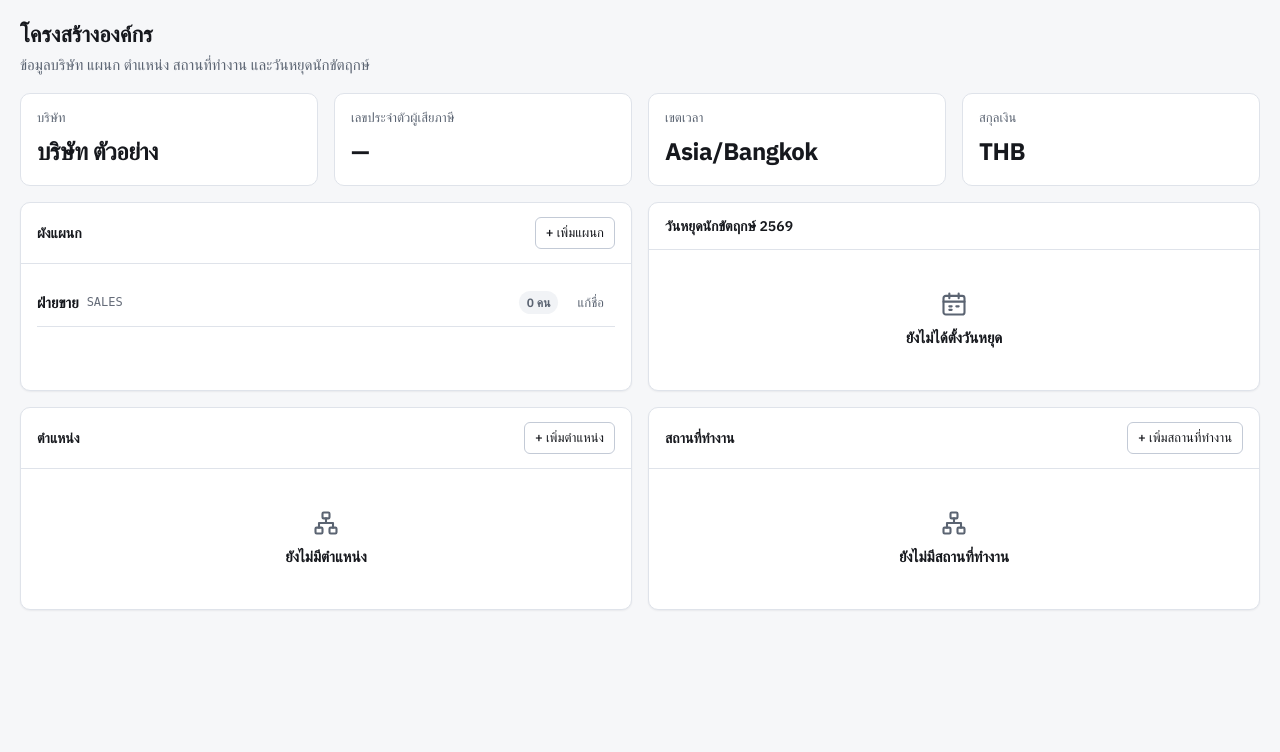
Test: Organisation: adding the records an employee import names (CW-072) › refuses a name already taken, in Thai, before anything is sent
Click the button "+ เพิ่มแผนก" at (575, 233), box [535, 217, 615, 249]
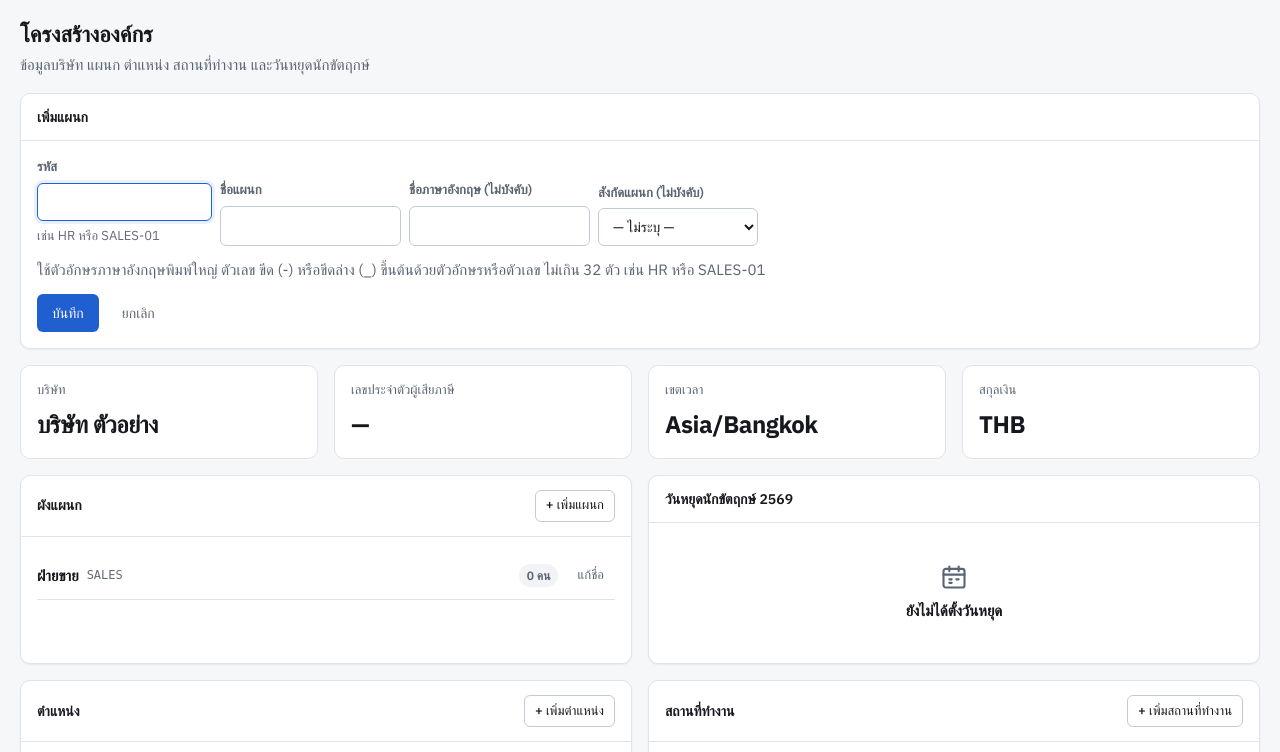
Type "SALES2" into the field labelled "รหัส" at (124, 202), box [37, 183, 212, 221]
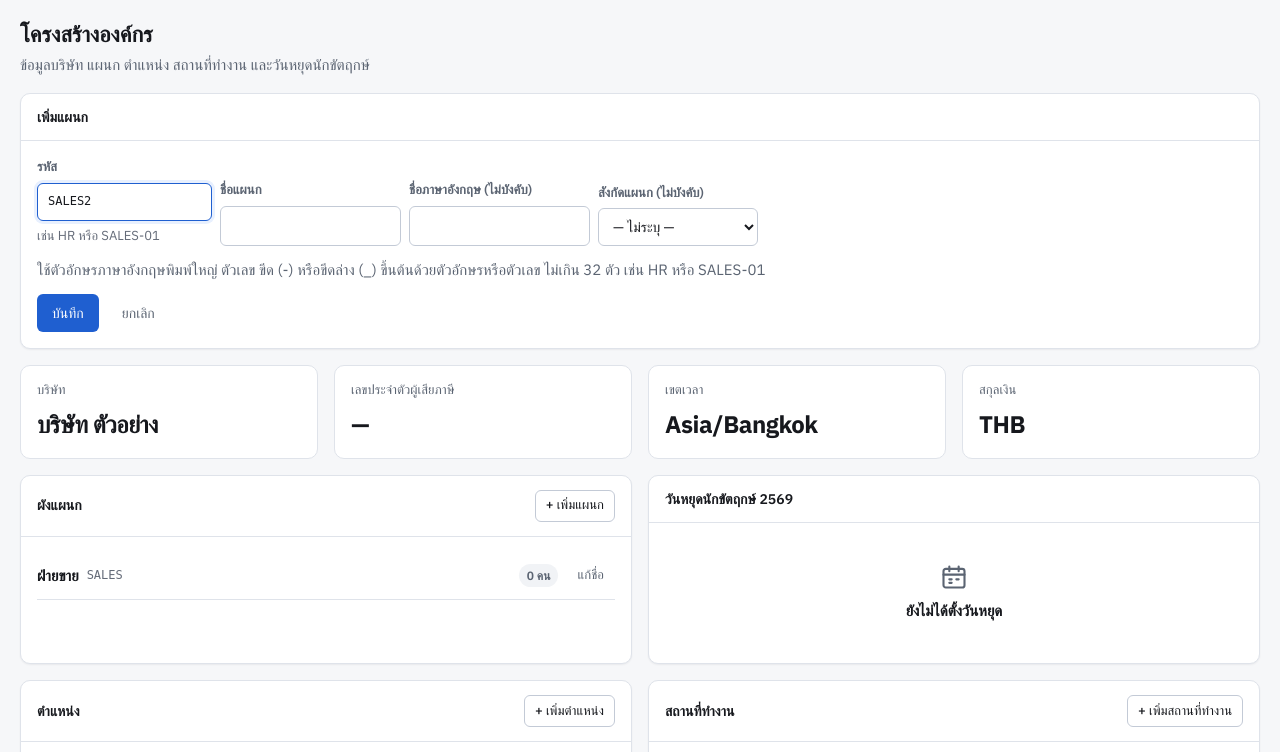
Type " ฝ่ายขาย " into the field labelled "ชื่อแผนก" at (310, 226), box [220, 206, 401, 246]
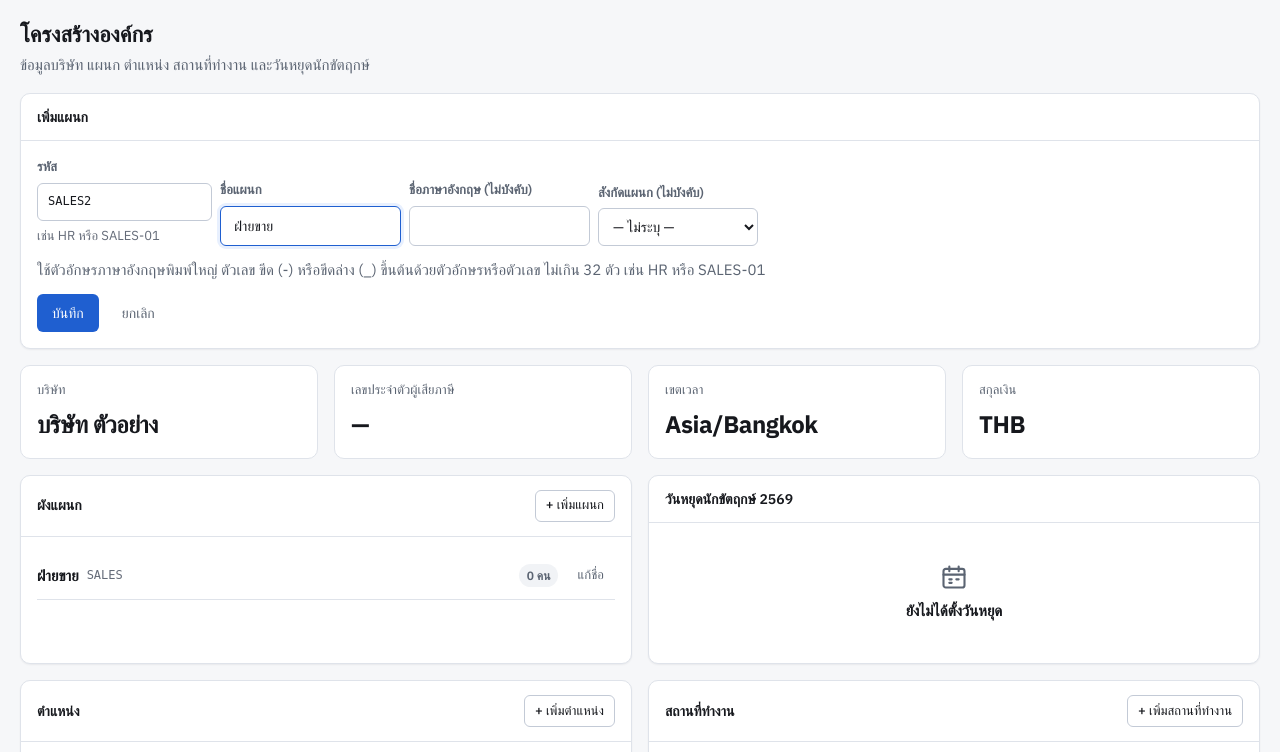
Click the button "บันทึก" at (68, 313), box [37, 294, 99, 332]
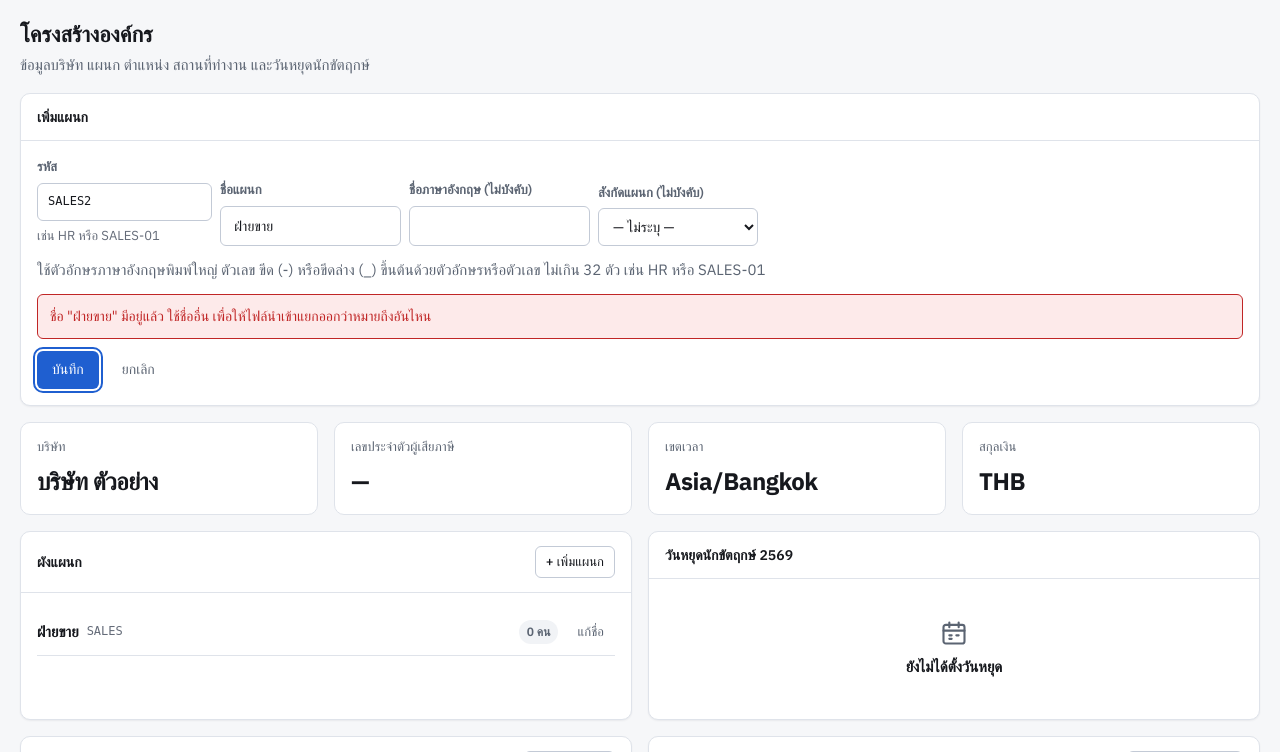
Now the message shows "ชื่อ \"ฝ่ายขาย\" มีอยู่แล้ว ใช้ชื่ออื่น", box [50, 307, 431, 325]
